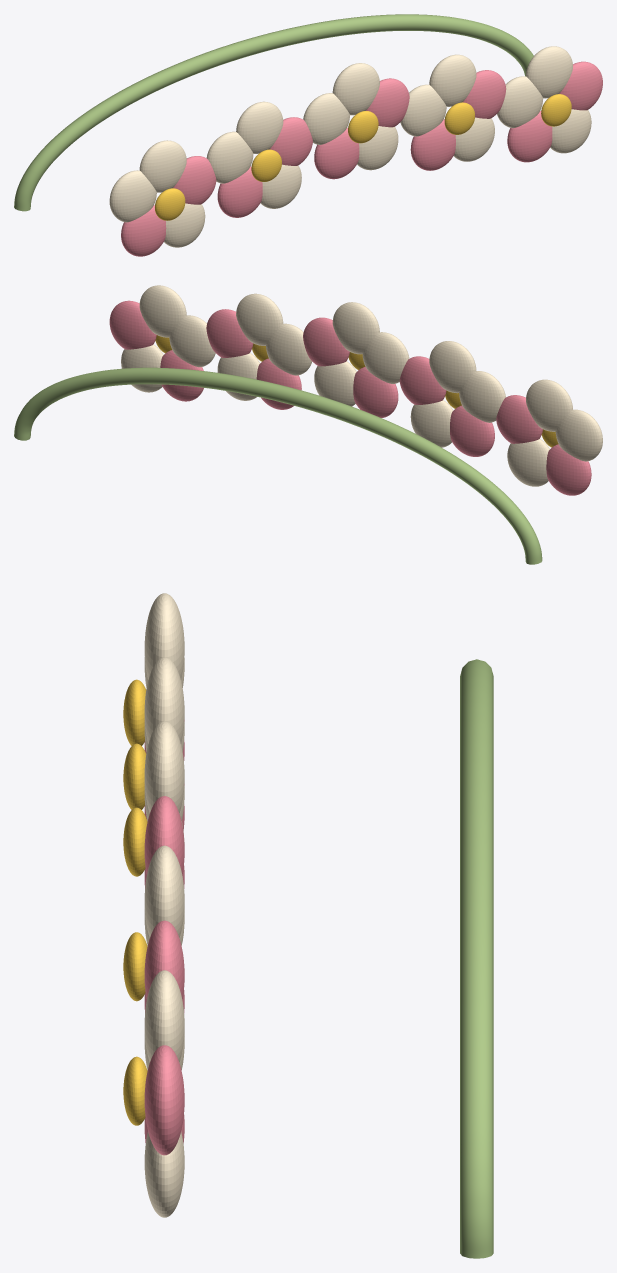
File: flower_crown.glb
3 views of the same model, one above another, from view 1: azimuth 30°, elevation 25°; view 2: azimuth 150°, elevation 25°; view 3: azimuth 270°, elevation 25° (orthographic). The views are drawn at different scales.
Parts seen in each view (by area): view 1: crown_band, flower_petal.004, flower_petal, flower_petal.020, flower_petal.005, flower_petal.015, flower_petal.010, flower_petal.009, flower_petal.014, flower_petal.019, flower_petal.024, flower_petal.008 (+19 smaller); view 2: crown_band, flower_petal.004, flower_petal.010, flower_petal.020, flower_petal.005, flower_petal, flower_petal.015, flower_petal.009, flower_petal.014, flower_petal.024, flower_petal.003, flower_petal.019 (+14 smaller); view 3: crown_band, flower_petal.021, flower_petal.010, flower_petal.020, flower_petal.015, flower_petal.005, flower_petal, flower_petal.022, flower_petal.011, flower_petal.016, flower_center.002, flower_center.003 (+3 smaller).
Part boxes in pixels (box(x1,y1,x2,y2)): crown_band: box(14, 14, 533, 211); flower_petal.004: box(109, 170, 156, 222); flower_petal: box(139, 140, 186, 192); flower_petal.020: box(526, 46, 572, 98); flower_petal.005: box(236, 101, 283, 153); flower_petal.015: box(429, 54, 476, 106); flower_petal.010: box(332, 63, 379, 115); flower_petal.009: box(206, 131, 253, 183); flower_petal.014: box(303, 93, 349, 144); flower_petal.019: box(400, 84, 446, 136); flower_petal.024: box(497, 76, 543, 128); flower_petal.008: box(217, 166, 262, 217); crown_band: box(14, 367, 542, 564); flower_petal.004: box(555, 409, 602, 461); flower_petal.010: box(332, 302, 379, 354); flower_petal.020: box(139, 285, 186, 337); flower_petal.005: box(429, 341, 476, 393); flower_petal: box(526, 379, 572, 431); flower_petal.015: box(236, 293, 283, 345); flower_petal.009: box(459, 371, 505, 422); flower_petal.014: box(362, 332, 409, 384); flower_petal.024: box(169, 315, 215, 367); flower_petal.003: box(546, 444, 591, 495); flower_petal.019: box(266, 323, 312, 375); crown_band: box(460, 659, 493, 1258); flower_petal.021: box(144, 1045, 184, 1155); flower_petal.010: box(144, 721, 184, 813); flower_petal.020: box(144, 970, 184, 1062); flower_petal.015: box(144, 845, 184, 937); flower_petal.005: box(144, 657, 184, 743); flower_petal: box(144, 593, 184, 679); flower_petal.022: box(144, 1131, 184, 1217); flower_petal.011: box(144, 796, 184, 875); flower_petal.016: box(144, 920, 184, 999); flower_center.002: box(123, 807, 147, 876); flower_center.003: box(123, 932, 147, 1001).
Bounding box in the file's own units: 1.09 × 0.2776 × 0.332.
